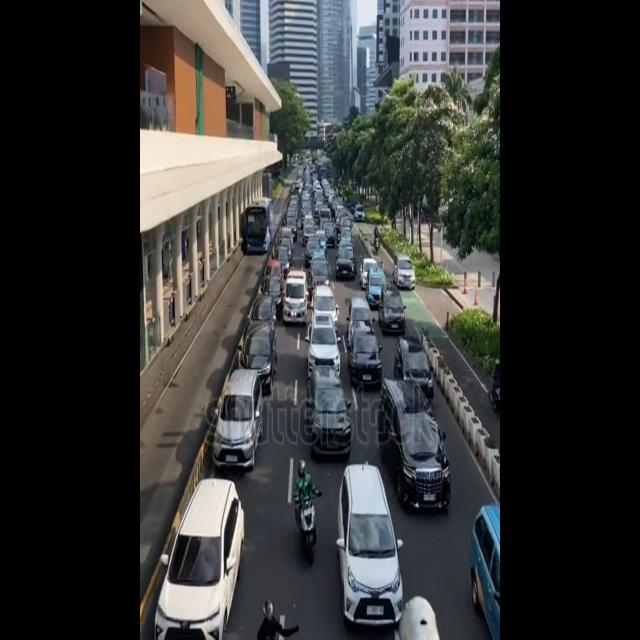Ambulance: (282, 264, 311, 333)
